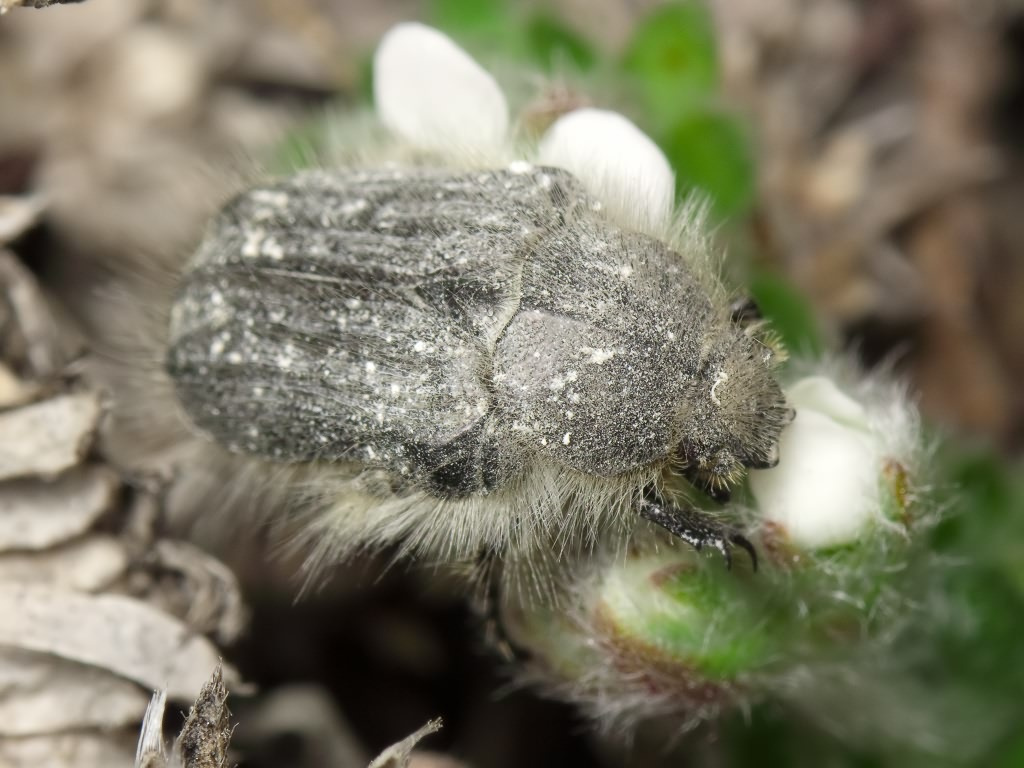Tropinota_hirta: (94, 142, 820, 603)
